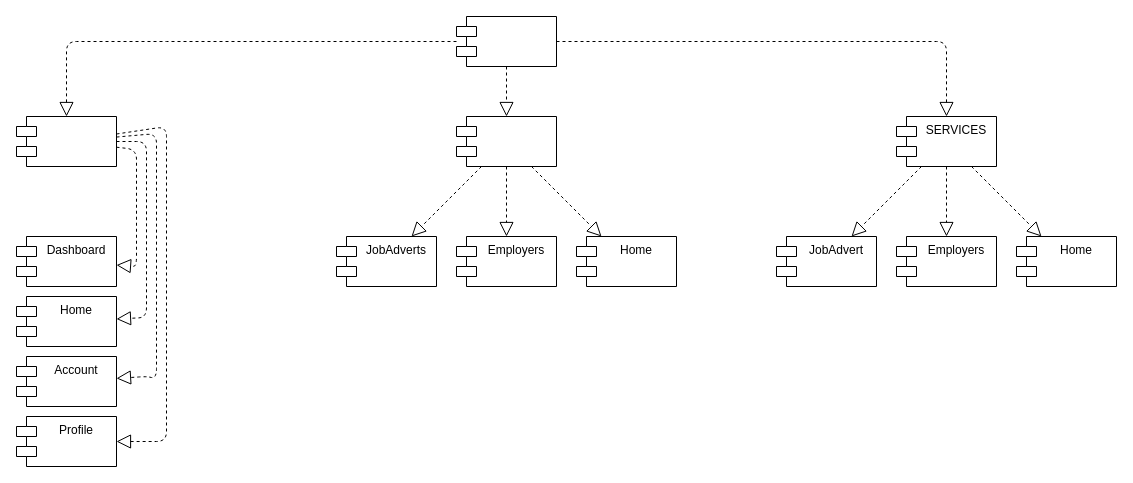
Some shapes in this 1133 by 483 pixel diagram are drawn without their labels. Here are the shapes that lost their labels. From the top down, the centre of each, then its label:
the point at 506,41: APP
the point at 66,141: LAYOUTS
the point at 506,141: PAGES
